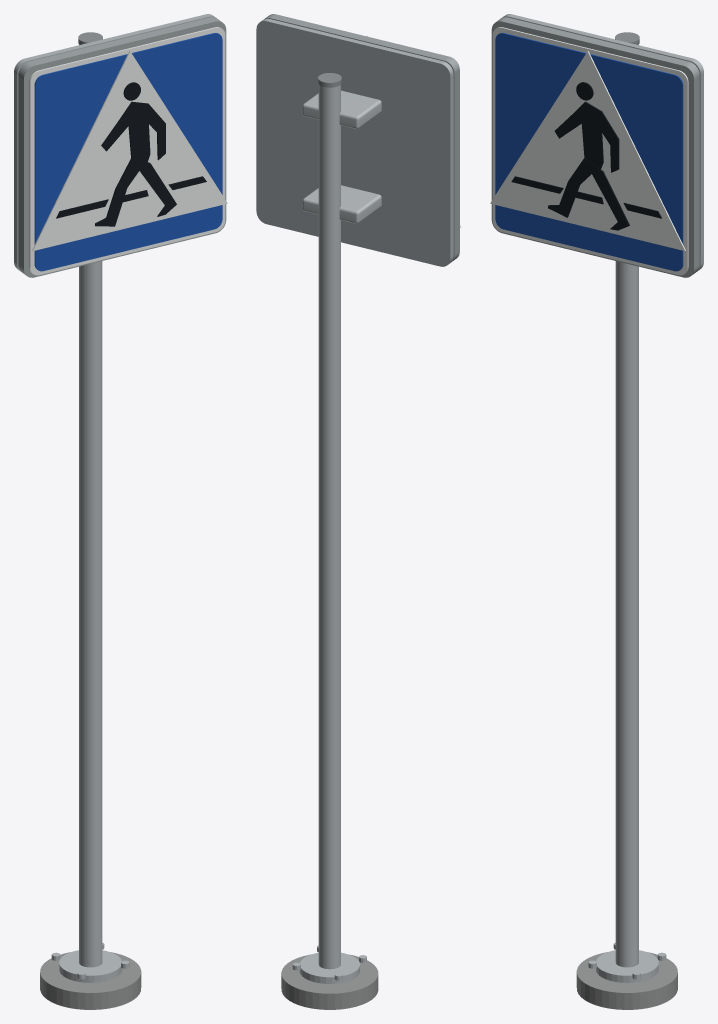
File: pl-d6-przejscie-pieszych.glb
3 views of the same model, side by side, from view 1: azimuth 30°, elevation 25°; view 2: azimuth 150°, elevation 25°; view 3: azimuth 330°, elevation 25° (orthographic). The views are drawn at different scales.
Visible parts, largest first — view 1: D-6 blue rectangular foil, Steel pole OD 60 mm hot-dip galvanized, D-6 white pedestrian-background triangle, Extruded metal rolled lip, D-6 bright boundary foil, Concrete base collar, D-6 continuous walking pedestrian upper silhouette, 3D stamped steel reverse sheet, D-6 connected walking pedestrian legs and shoes, Mast foot flange 160mm; view 2: 3D stamped steel reverse sheet, Steel pole OD 60 mm hot-dip galvanized, Concrete base collar, Extruded metal rolled lip, Folded sign-to-mast omega bracket, Folded sign-to-mast omega bracket.001, Mast foot flange 160mm; view 3: D-6 blue rectangular foil, Steel pole OD 60 mm hot-dip galvanized, D-6 white pedestrian-background triangle, Extruded metal rolled lip, D-6 bright boundary foil, Concrete base collar, D-6 continuous walking pedestrian upper silhouette, 3D stamped steel reverse sheet, D-6 connected walking pedestrian legs and shoes, Mast foot flange 160mm.
Part boxes in pixels (x1,y1,x2,y2): D-6 blue rectangular foil: [34, 33, 222, 271]; Steel pole OD 60 mm hot-dip galvanized: [79, 44, 102, 967]; D-6 white pedestrian-background triangle: [32, 51, 227, 250]; Extruded metal rolled lip: [18, 17, 226, 277]; D-6 bright boundary foil: [29, 27, 225, 275]; Concrete base collar: [40, 952, 141, 1009]; D-6 continuous walking pedestrian upper silhouette: [101, 101, 165, 162]; 3D stamped steel reverse sheet: [14, 14, 215, 271]; D-6 connected walking pedestrian legs and shoes: [95, 158, 176, 226]; Mast foot flange 160mm: [59, 950, 121, 982]; 3D stamped steel reverse sheet: [256, 18, 453, 266]; Steel pole OD 60 mm hot-dip galvanized: [318, 84, 340, 969]; Concrete base collar: [281, 954, 378, 1009]; Extruded metal rolled lip: [264, 14, 459, 262]; Folded sign-to-mast omega bracket: [302, 185, 381, 223]; Folded sign-to-mast omega bracket.001: [302, 90, 381, 128]; Mast foot flange 160mm: [299, 952, 359, 983]; D-6 blue rectangular foil: [495, 33, 683, 271]; Steel pole OD 60 mm hot-dip galvanized: [615, 44, 638, 967]; D-6 white pedestrian-background triangle: [490, 51, 685, 250]; Extruded metal rolled lip: [491, 17, 699, 277]; D-6 bright boundary foil: [492, 27, 688, 275]; Concrete base collar: [576, 952, 677, 1009]; D-6 continuous walking pedestrian upper silhouette: [554, 101, 619, 172]; 3D stamped steel reverse sheet: [502, 14, 703, 271]; D-6 connected walking pedestrian legs and shoes: [548, 158, 629, 230]; Mast foot flange 160mm: [596, 950, 658, 982].
Size of the model in its own units: 0.6 by 2.75 by 0.348.
